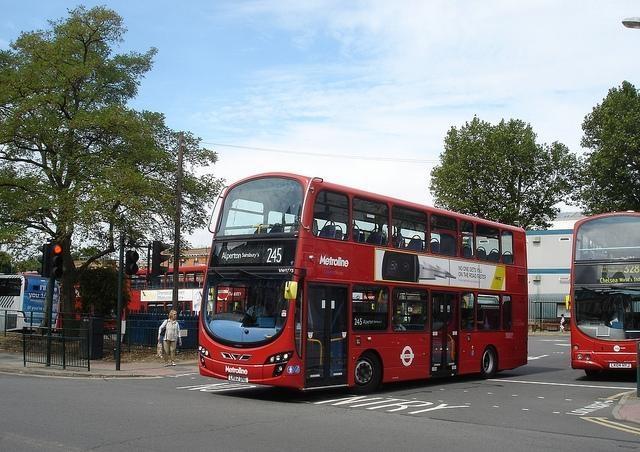bus: (199, 173, 640, 393), (134, 266, 206, 326), (0, 273, 60, 332)
